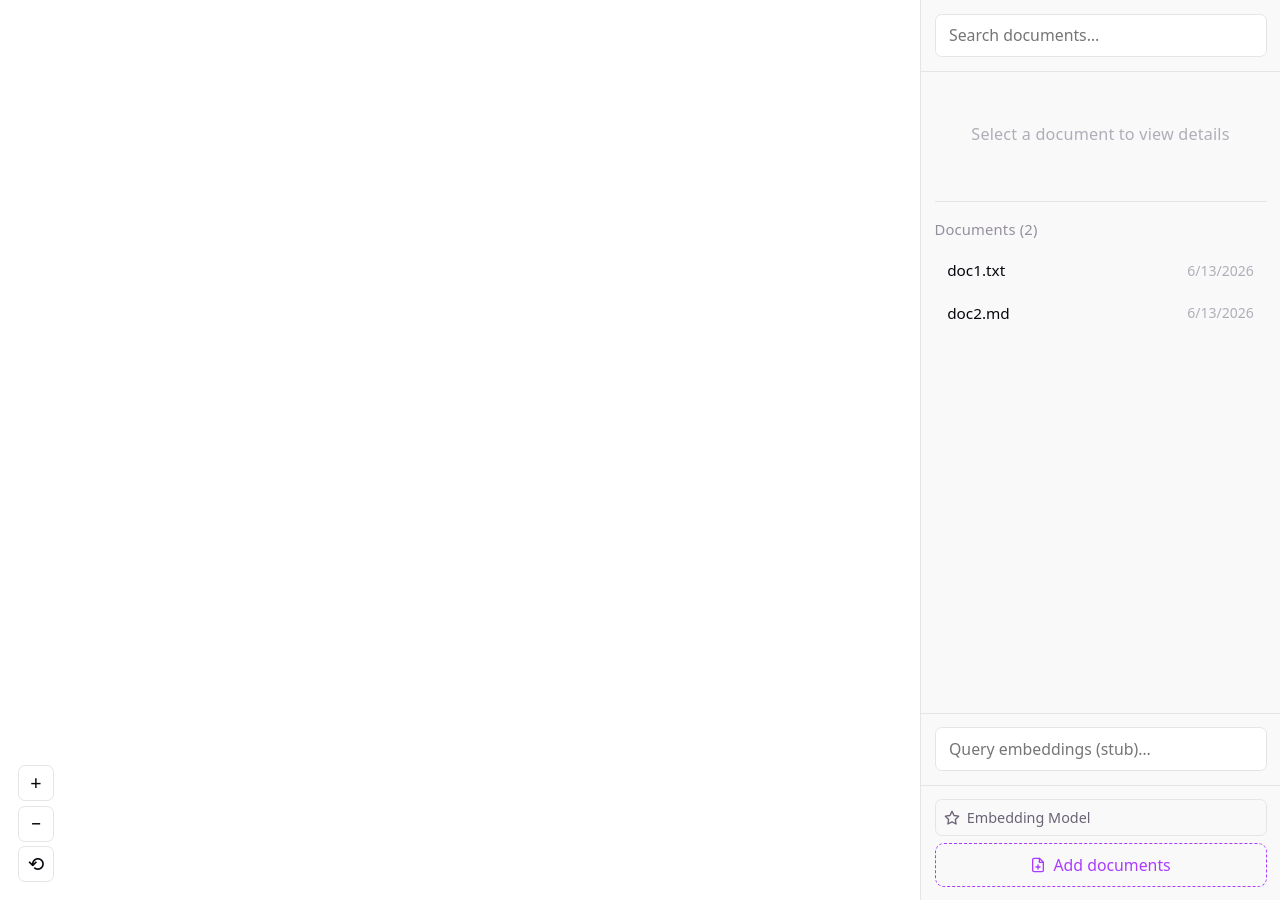
Test case: RagView › selects a document when clicked
Click the text "doc1.txt" at [976, 270], box [947, 260, 1005, 280]
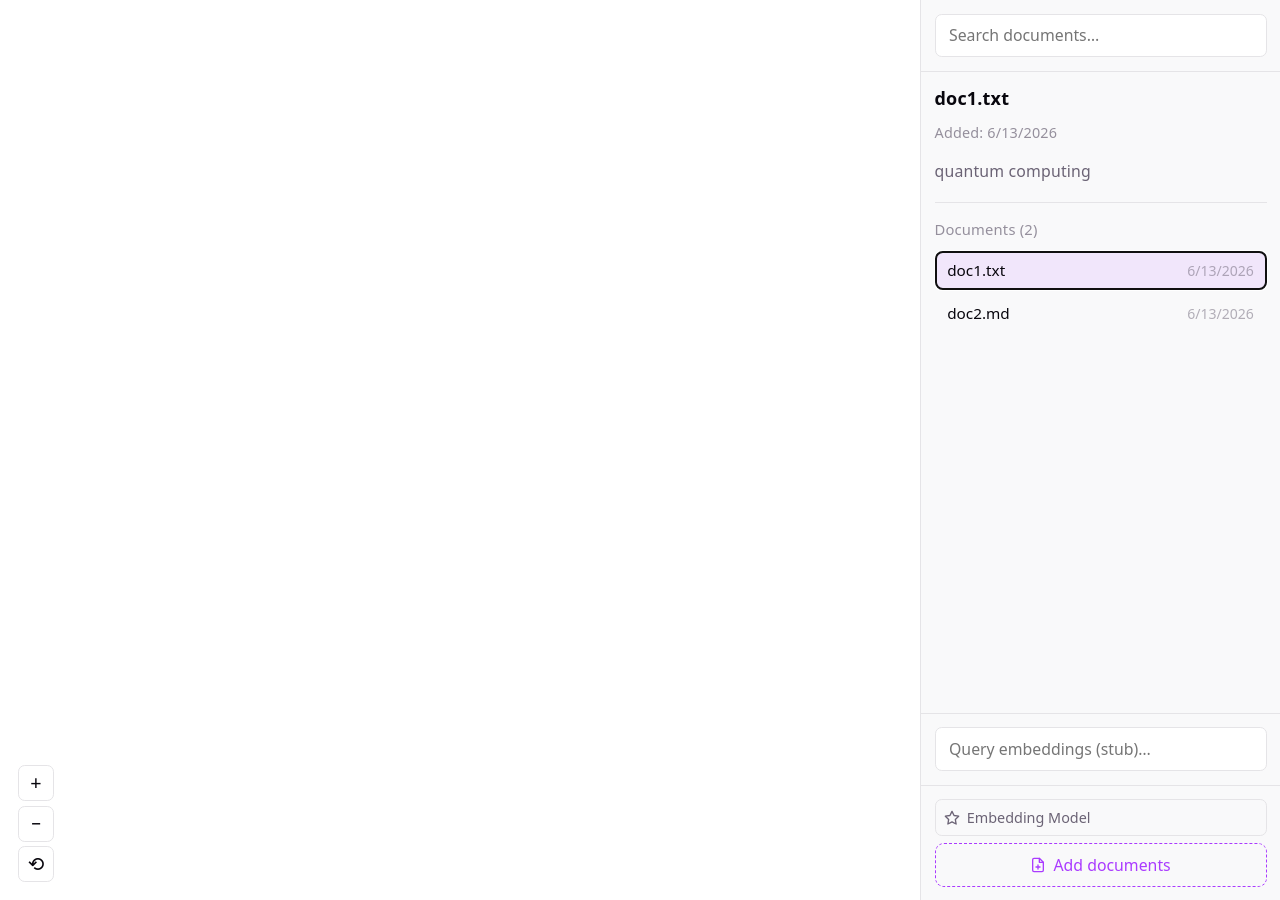
Check: the text "quantum computing" is shown, box [934, 160, 1091, 182]
